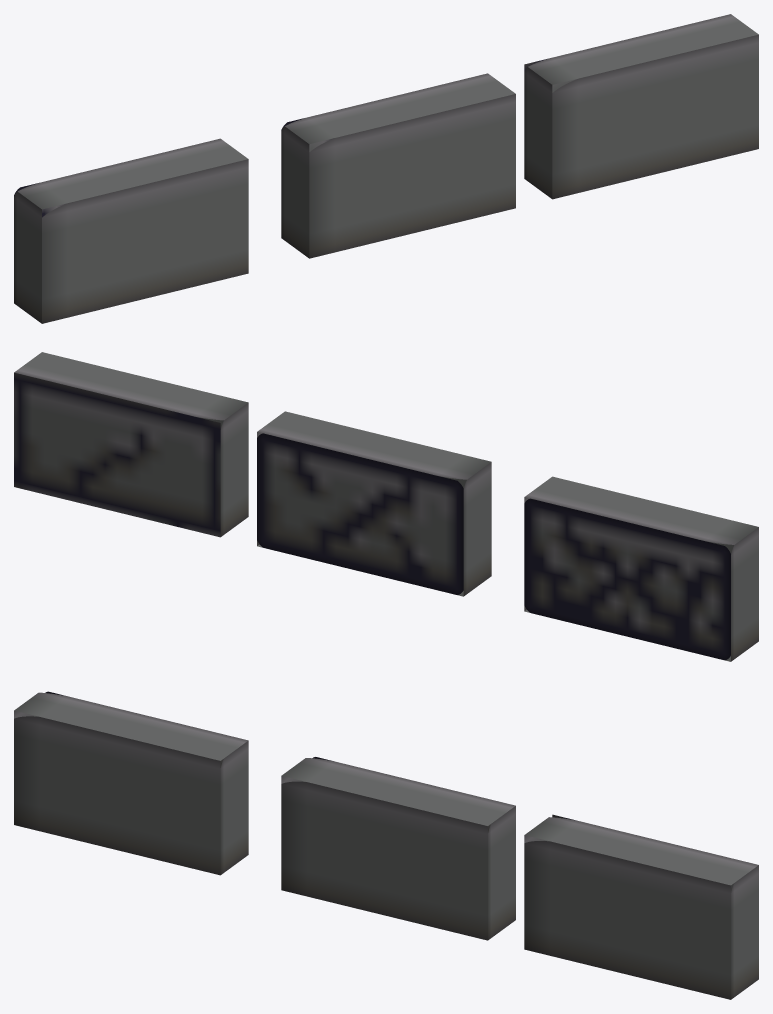
Rendered from Bricks.fbx.
The picture shows the model from 3 angles, top to bottom: view 1: azimuth 30°, elevation 25°; view 2: azimuth 150°, elevation 25°; view 3: azimuth 330°, elevation 25°; orthographic projection.
Visible parts, largest first — view 1: Brick1, Brick3, Brick2; view 2: Brick2, Brick3, Brick1; view 3: Brick1, Brick3, Brick2.
Boxes of the visible parts, bbox=[...] form: Brick1: bbox=[524, 14, 758, 199]; Brick3: bbox=[14, 138, 248, 323]; Brick2: bbox=[281, 73, 515, 258]; Brick2: bbox=[257, 411, 491, 596]; Brick3: bbox=[524, 476, 758, 661]; Brick1: bbox=[14, 352, 248, 537]; Brick1: bbox=[524, 814, 758, 999]; Brick3: bbox=[14, 691, 248, 875]; Brick2: bbox=[281, 757, 515, 940].
Bounding box in the file's own units: 369 × 56.25 × 25.
1 material, 1 textured.
